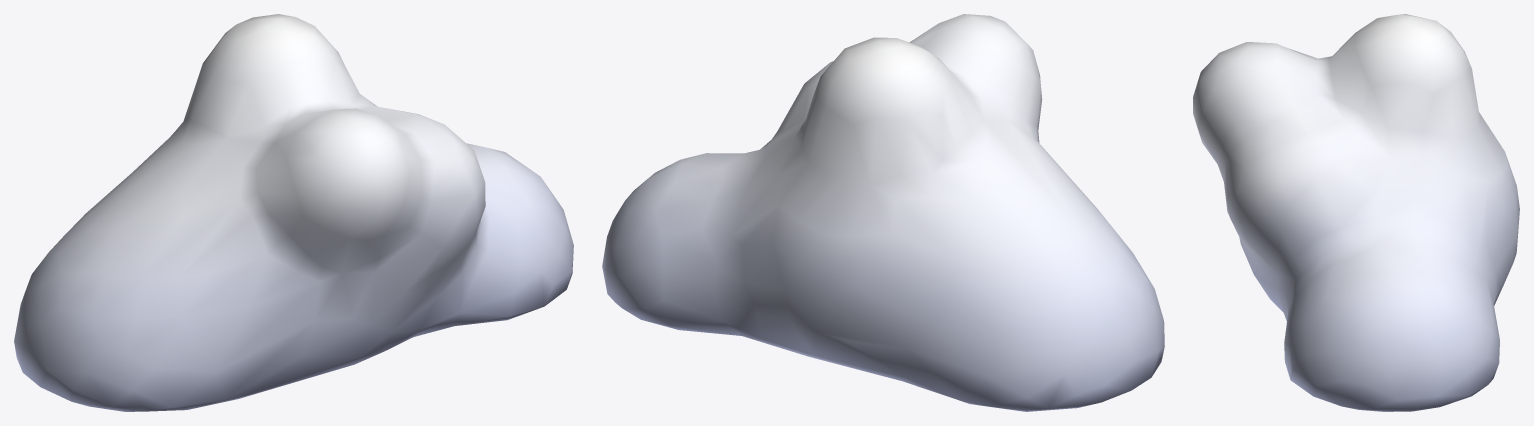
File: NubePequena2.fbx
3 renders of one model, left to right at view 1: azimuth 30°, elevation 25°; view 2: azimuth 150°, elevation 25°; view 3: azimuth 270°, elevation 25°, orthographic. The views are drawn at different scales.
Visible parts, largest first — view 1: NubePequena2; view 2: NubePequena2; view 3: NubePequena2.
Boxes of the visible parts, x1,y1,x2,y2 form: NubePequena2: (14, 14, 573, 411); NubePequena2: (602, 14, 1164, 411); NubePequena2: (1193, 14, 1519, 411).
Size of the model in its own units: 55 by 30.9 by 31.98.
1 material, 1 textured.
